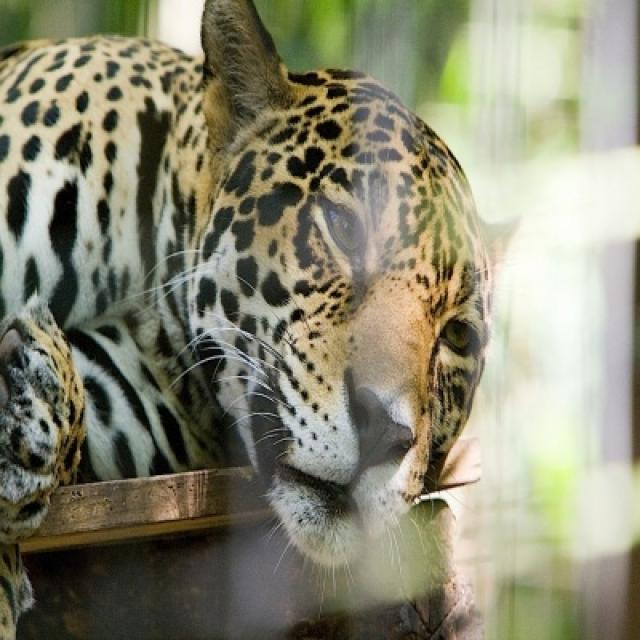Jaguar: (0, 2, 521, 571)
